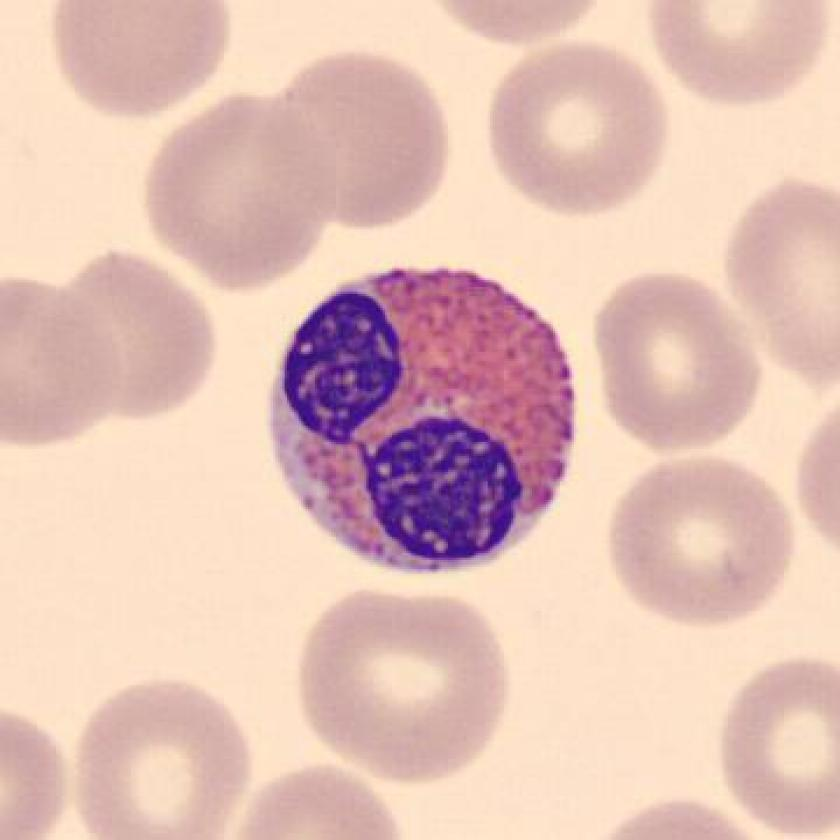eosinophil: (260, 251, 584, 589)
